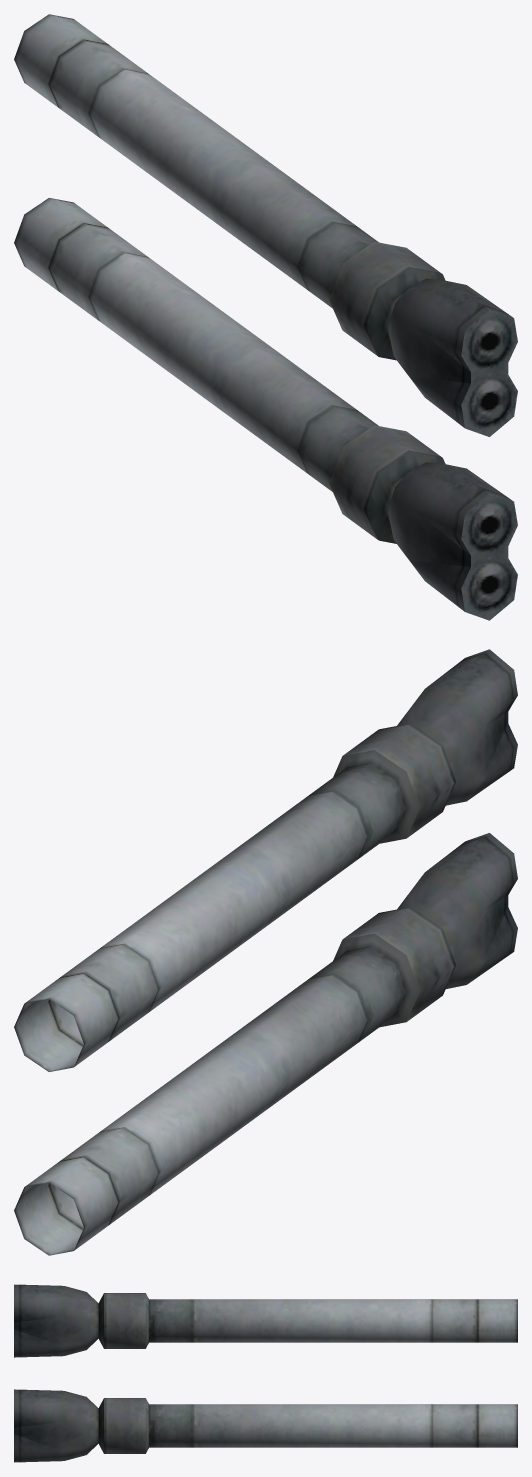
File: vt49_turret_barrel_s01_l0.fbx
3 renders of one model, top to bottom at view 1: azimuth 30°, elevation 25°; view 2: azimuth 150°, elevation 25°; view 3: azimuth 270°, elevation 25°, orthographic. The views are drawn at different scales.
Parts seen in each view (by area): view 1: mesh_node; view 2: mesh_node; view 3: mesh_node.
Part boxes in pixels (left/top/right/bottom): mesh_node: left=14, top=14, right=517, bottom=620; mesh_node: left=14, top=649, right=517, bottom=1255; mesh_node: left=14, top=1284, right=517, bottom=1462.
Size of the model in its own units: 0.201 by 0.6596 by 1.69.
